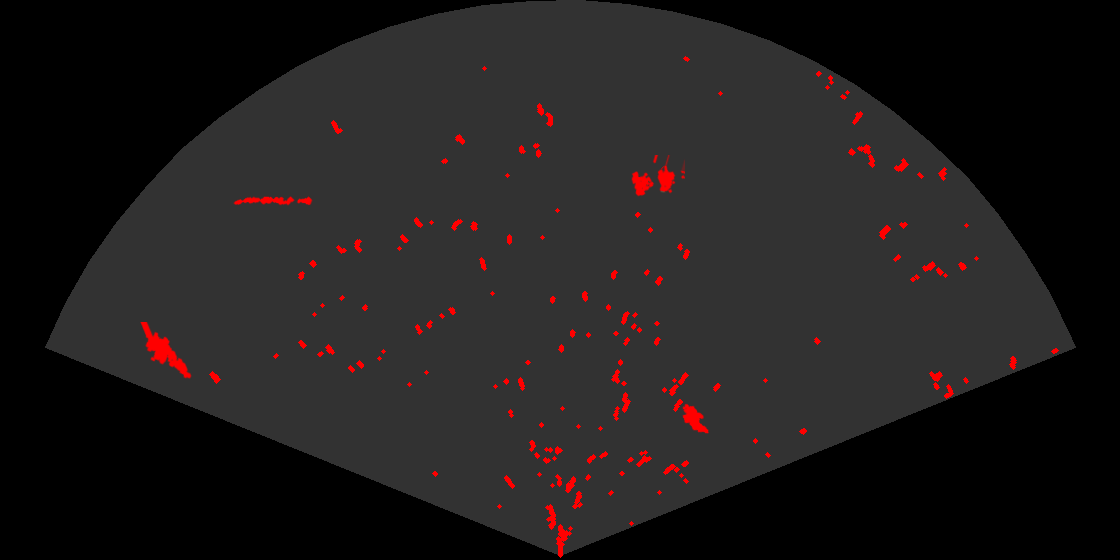AUV: (681, 402, 711, 435)
cage: (630, 155, 685, 198)
chain: (233, 195, 313, 207)
frogman: (139, 322, 193, 380)
